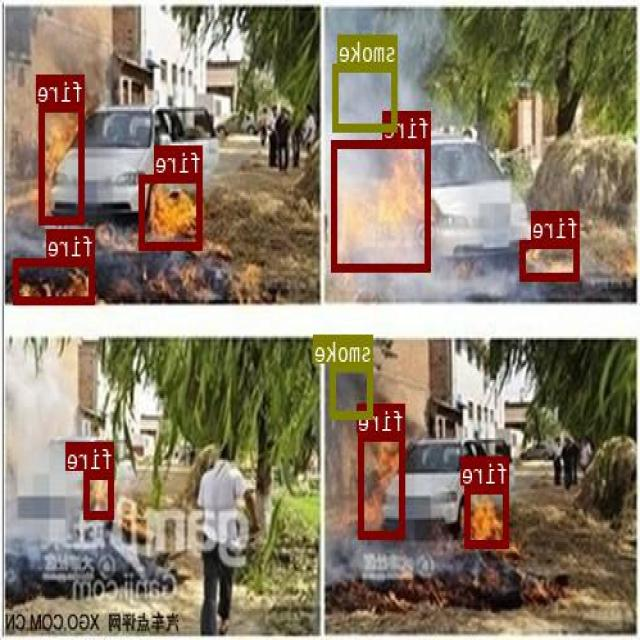fire: (333, 139, 432, 270), (40, 103, 85, 222), (359, 432, 406, 537), (141, 173, 203, 249), (15, 258, 95, 302), (467, 484, 509, 546), (522, 238, 581, 280), (85, 470, 115, 517)
smoke: (334, 62, 398, 129), (332, 362, 374, 416)
